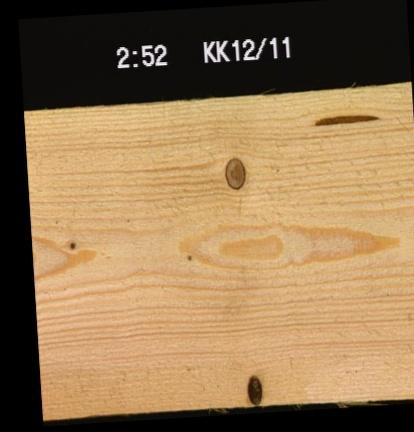dry_knot: (222, 154, 246, 189)
small_knot: (180, 248, 197, 266), (66, 237, 78, 254)
